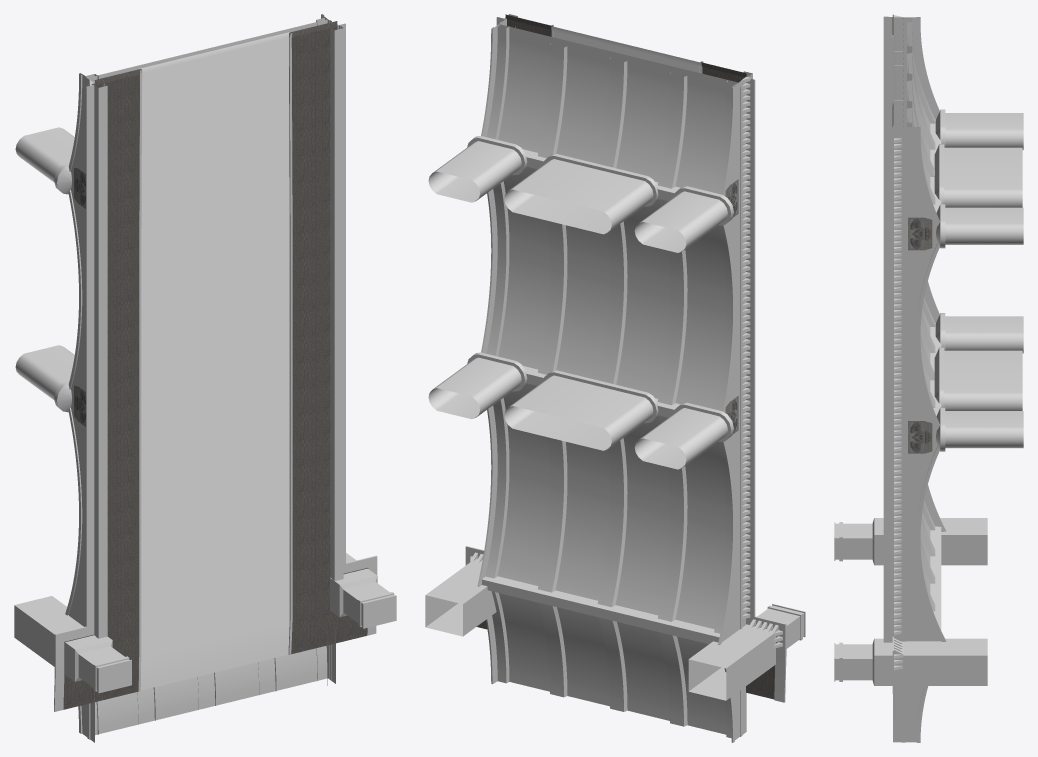
The model's file is env_112_06_WideBridge_a.glb.
The picture shows the model from 3 angles, left to right: view 1: azimuth 30°, elevation 25°; view 2: azimuth 150°, elevation 25°; view 3: azimuth 270°, elevation 25°; orthographic projection. The views are drawn at different scales.
Parts seen in each view (by area): view 1: set_0_group_1, set_0_group_3, set_0_group_2, set_0_group_0; view 2: set_0_group_3, set_0_group_2, set_0_group_1, set_0_group_0; view 3: set_0_group_3, set_0_group_0.
Boxes of the visible parts, x1,y1,x2,y2 form: set_0_group_1: (139,32,289,690); set_0_group_3: (14,14,396,742); set_0_group_2: (63,21,368,709); set_0_group_0: (74,168,85,426); set_0_group_3: (425,14,805,742); set_0_group_2: (476,14,774,699); set_0_group_1: (551,26,701,73); set_0_group_0: (725,179,738,434); set_0_group_3: (834,14,1023,742); set_0_group_0: (908,217,932,453).
Size of the model in its own units: 42.67 by 84.02 by 23.32.
4 materials, 2 textured.
